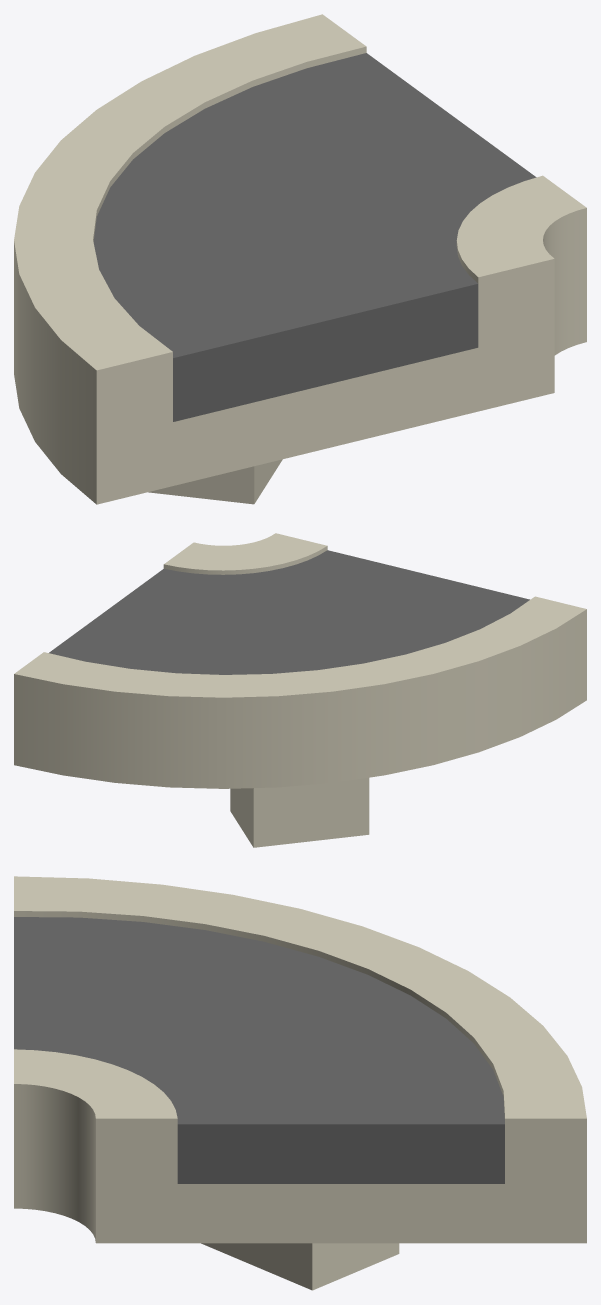
File: tile204.dae
3 views of the same model, one above another, from view 1: azimuth 30°, elevation 25°; view 2: azimuth 150°, elevation 25°; view 3: azimuth 270°, elevation 25° (orthographic). The views are drawn at different scales.
Parts seen in each view (by area): view 1: tile204; view 2: tile204; view 3: tile204.
Part boxes in pixels (x1,y1,x2,y2): tile204: [14, 14, 586, 504]; tile204: [14, 533, 586, 847]; tile204: [14, 876, 586, 1290].
Bounding box in the file's own units: 0.875 × 0.42 × 0.875.
